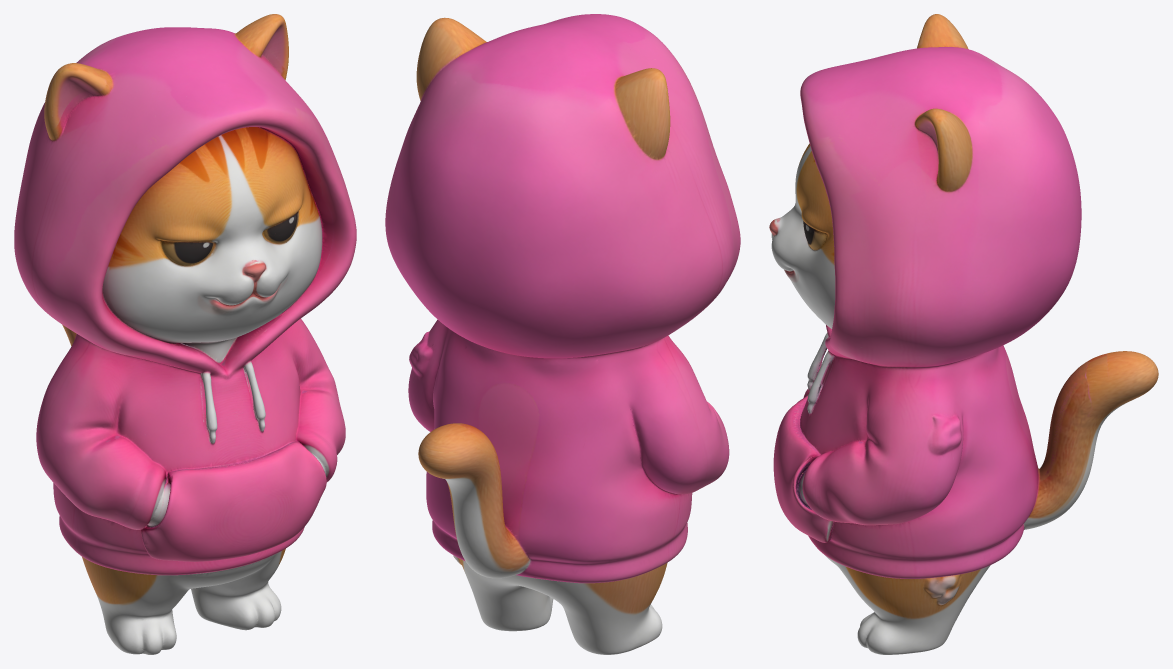
Rendered from lead-cat.glb.
3 views of the same model, side by side, from view 1: azimuth 30°, elevation 25°; view 2: azimuth 150°, elevation 25°; view 3: azimuth 270°, elevation 25° (orthographic). The views are drawn at different scales.
Size of the model in its own units: 1.06 by 1.9 by 1.2.
Materials: 1 (1 with a texture image).
